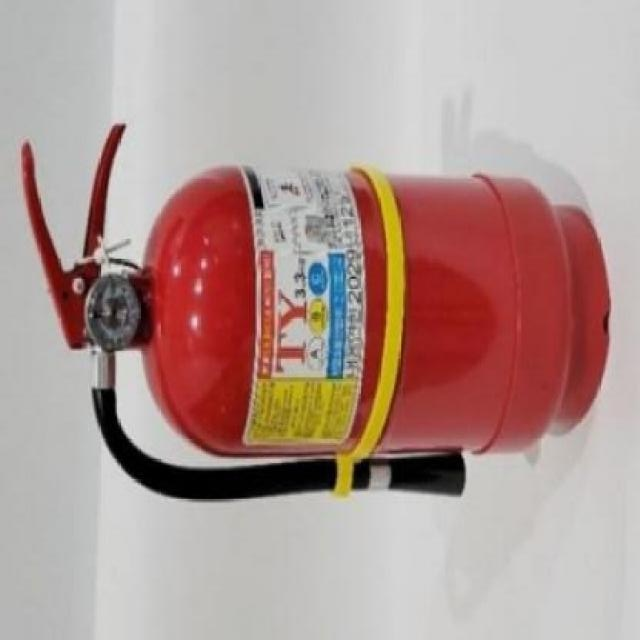fire extinguisher: (17, 123, 611, 503)
